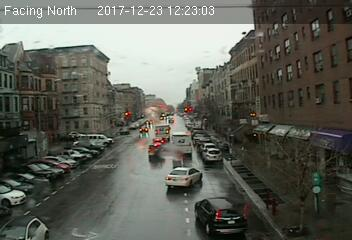car: (193, 195, 248, 235), (165, 166, 204, 189), (203, 147, 223, 163), (148, 144, 164, 158)
truck: (171, 131, 194, 157)
